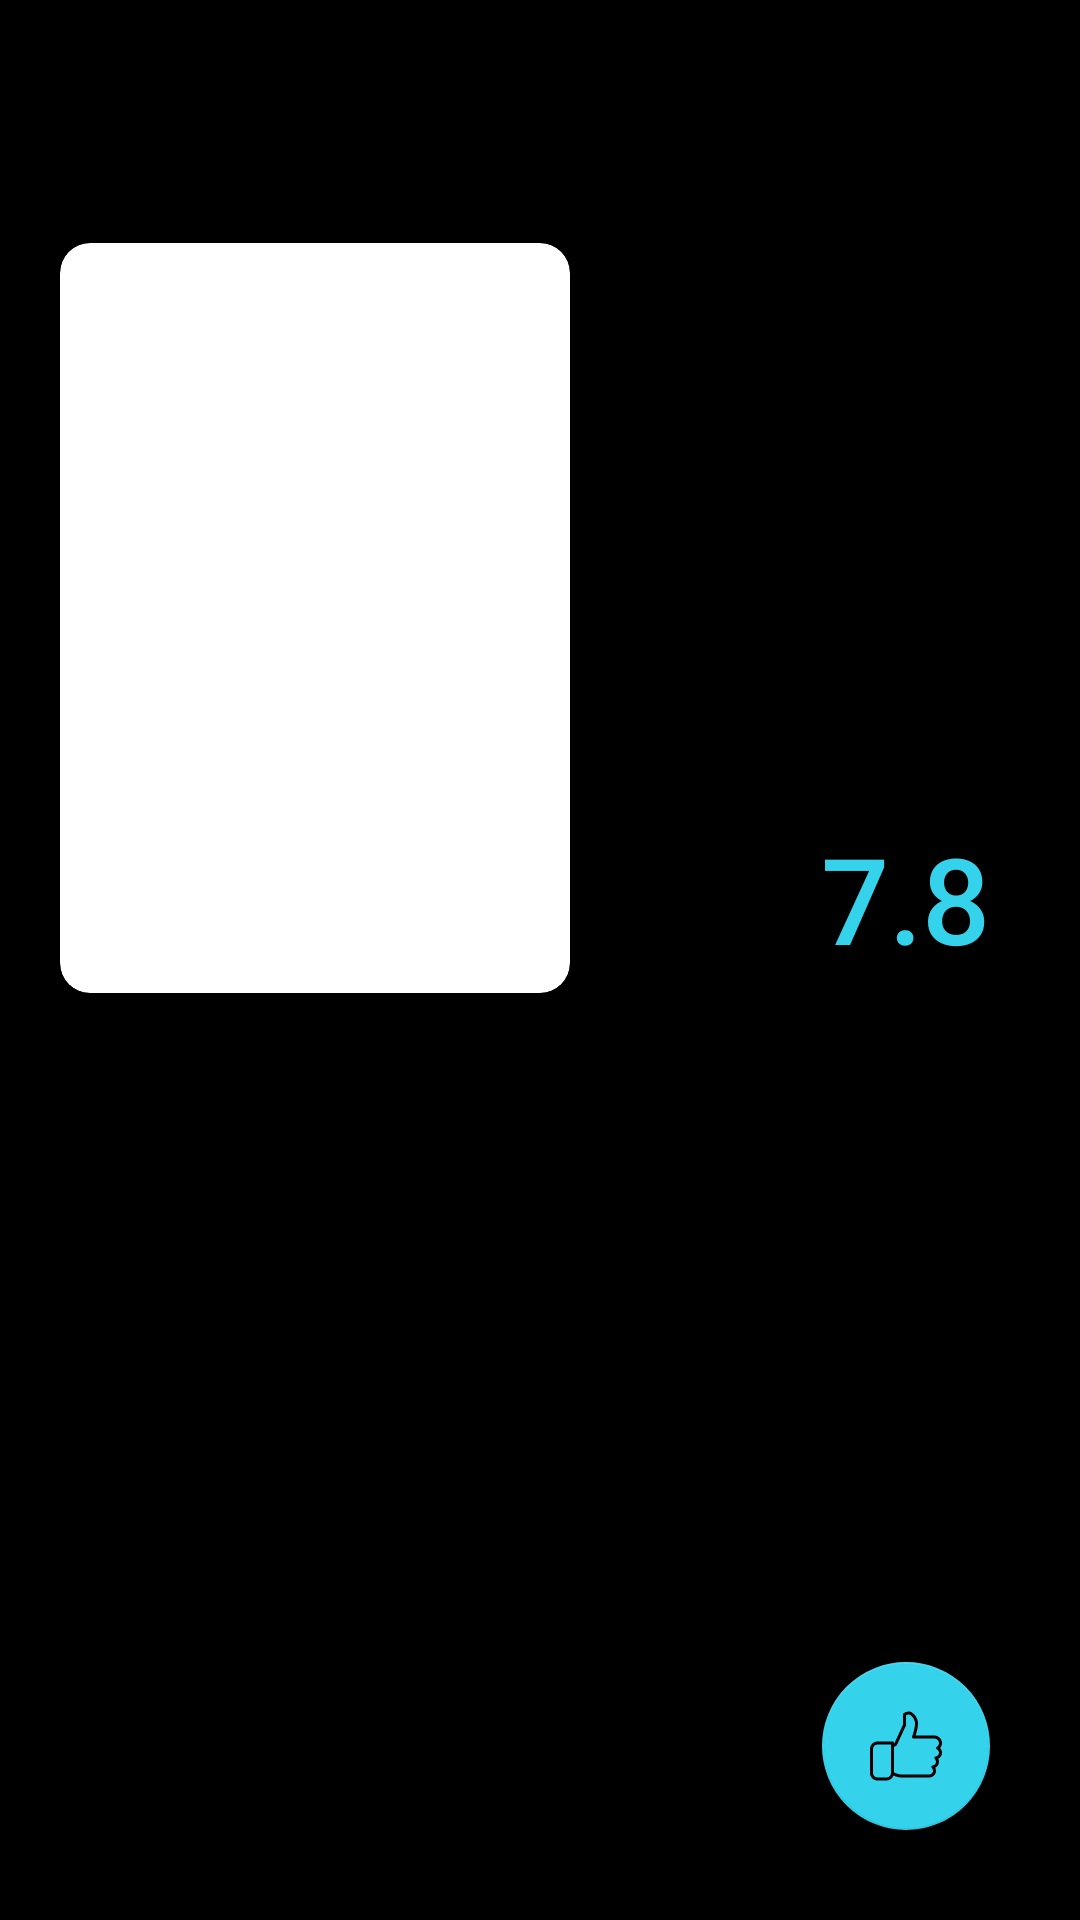

Where icons sit on this 1080w x 1920h app screen, as [x1, y1, x2, y2]:
like: [822, 1662, 990, 1830]
